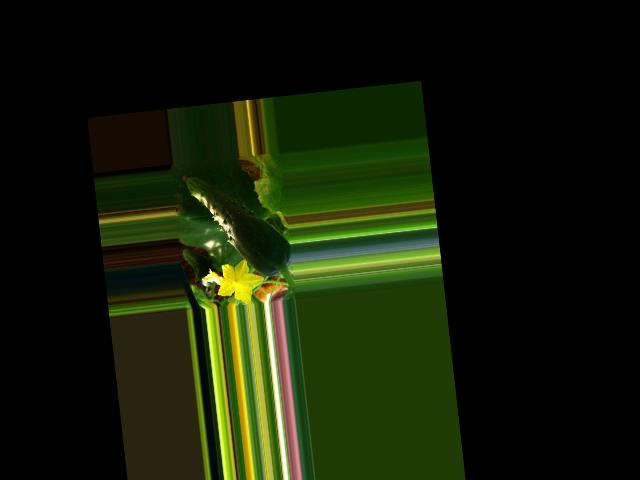cucumber: (181, 164, 293, 285)
